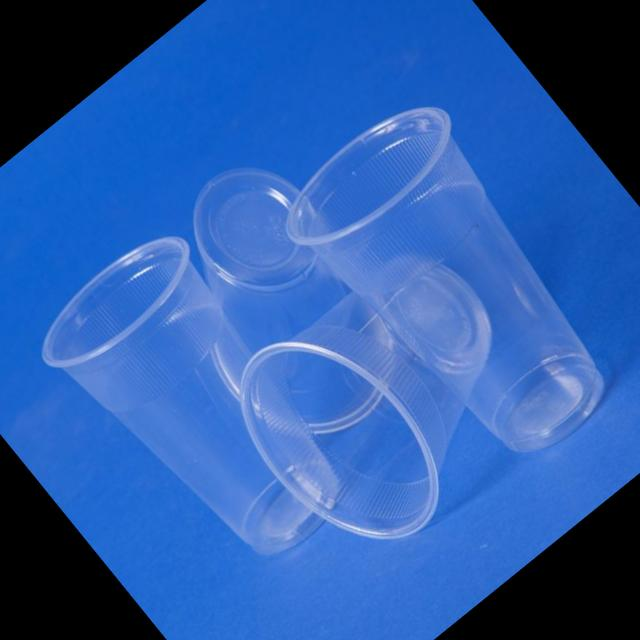GelasPlastik: (264, 81, 640, 494), (202, 208, 580, 585), (21, 217, 380, 598), (114, 134, 440, 474)
